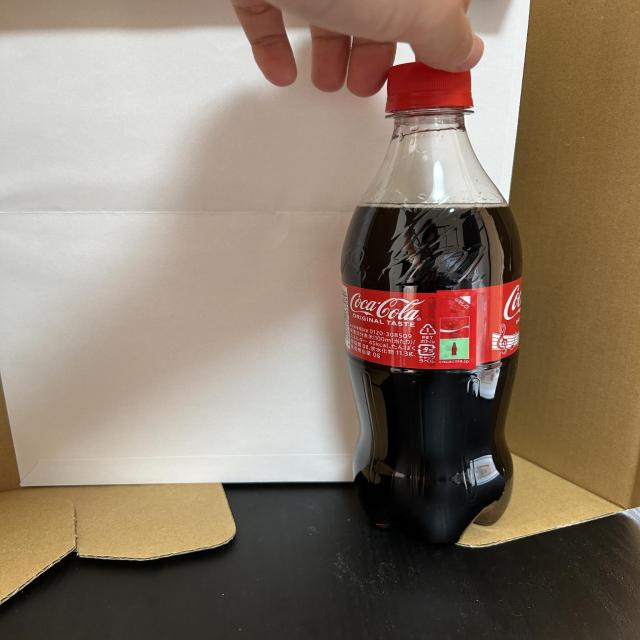high: (341, 62, 522, 543)
